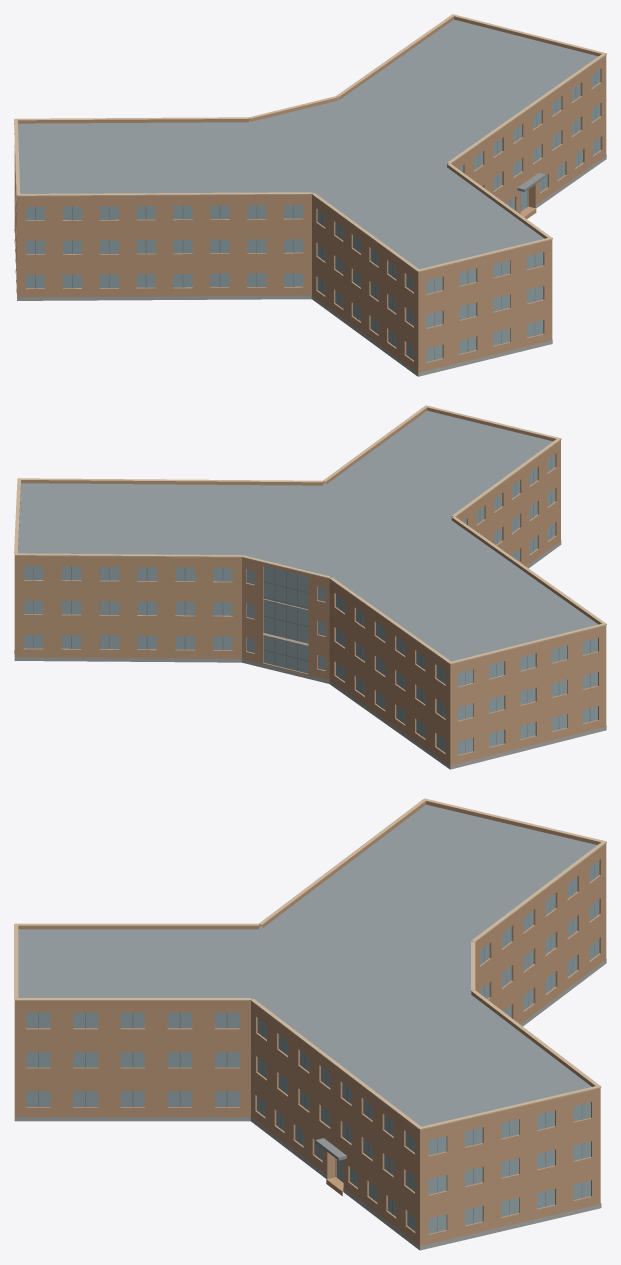
3 renders of one model, top to bottom at view 1: azimuth 30°, elevation 25°; view 2: azimuth 150°, elevation 25°; view 3: azimuth 270°, elevation 25°, orthographic. The views are drawn at different scales.
Parts seen in each view (by area): view 1: b115951829__roof, b115951829__wall, b115951829__glass, b115951829__trim, b115951829__parapet, b115951829__base, b115951829__frame; view 2: b115951829__roof, b115951829__wall, b115951829__glass, b115951829__trim, b115951829__parapet, b115951829__base, b115951829__frame; view 3: b115951829__roof, b115951829__wall, b115951829__glass, b115951829__trim, b115951829__parapet, b115951829__base, b115951829__frame.
Boxes of the visible parts, x1,y1,x2,y2 form: b115951829__roof: (18,19,598,300); b115951829__wall: (14,57,606,376); b115951829__glass: (26,69,600,361); b115951829__trim: (14,14,606,272); b115951829__parapet: (17,16,606,274); b115951829__base: (14,155,606,376); b115951829__frame: (35,73,596,360); b115951829__roof: (18,410,598,769); b115951829__wall: (14,442,606,769); b115951829__glass: (23,454,597,754); b115951829__trim: (14,405,606,664); b115951829__parapet: (14,407,606,666); b115951829__base: (14,540,606,769); b115951829__frame: (33,457,590,753); b115951829__roof: (18,804,597,1126); b115951829__wall: (14,846,606,1249); b115951829__glass: (26,860,599,1233); b115951829__trim: (14,798,606,1129); b115951829__parapet: (14,801,606,1132); b115951829__base: (14,959,606,1250); b115951829__frame: (38,864,594,1232).
Size of the model in its own units: 65.09 by 11.55 by 49.34.
